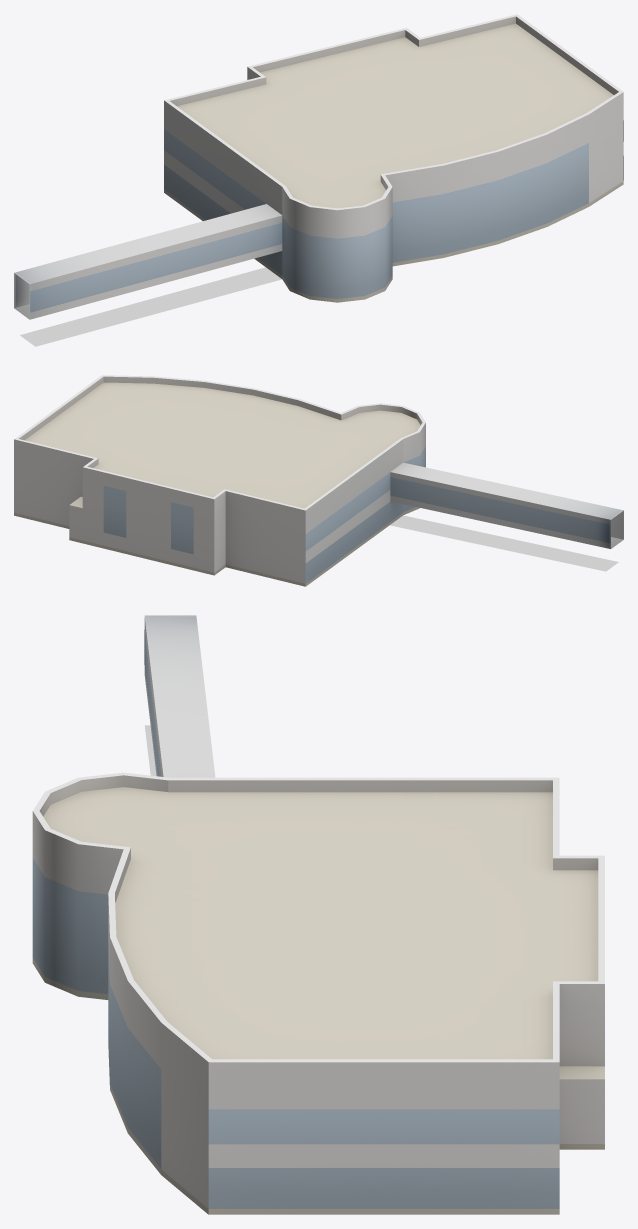
Rendered from solimanhospital2.glb.
3 renders of one model, top to bottom at view 1: azimuth 30°, elevation 25°; view 2: azimuth 150°, elevation 25°; view 3: azimuth 270°, elevation 25°, orthographic. The views are drawn at different scales.
Parts seen in each view (by area): view 1: solimanhospital2, solimanhospital2_cont; view 2: solimanhospital2, solimanhospital2_cont; view 3: solimanhospital2.
Boxes of the visible parts, left/top/right/bottom form: solimanhospital2: left=14, top=14, right=623, bottom=319; solimanhospital2_cont: left=20, top=267, right=281, bottom=346; solimanhospital2: left=14, top=375, right=623, bottom=586; solimanhospital2_cont: left=390, top=515, right=618, bottom=571; solimanhospital2: left=32, top=615, right=604, bottom=1214.
Bounding box in the file's own units: 90.3 × 13 × 44.22.
Materials: 2 (1 with a texture image).
